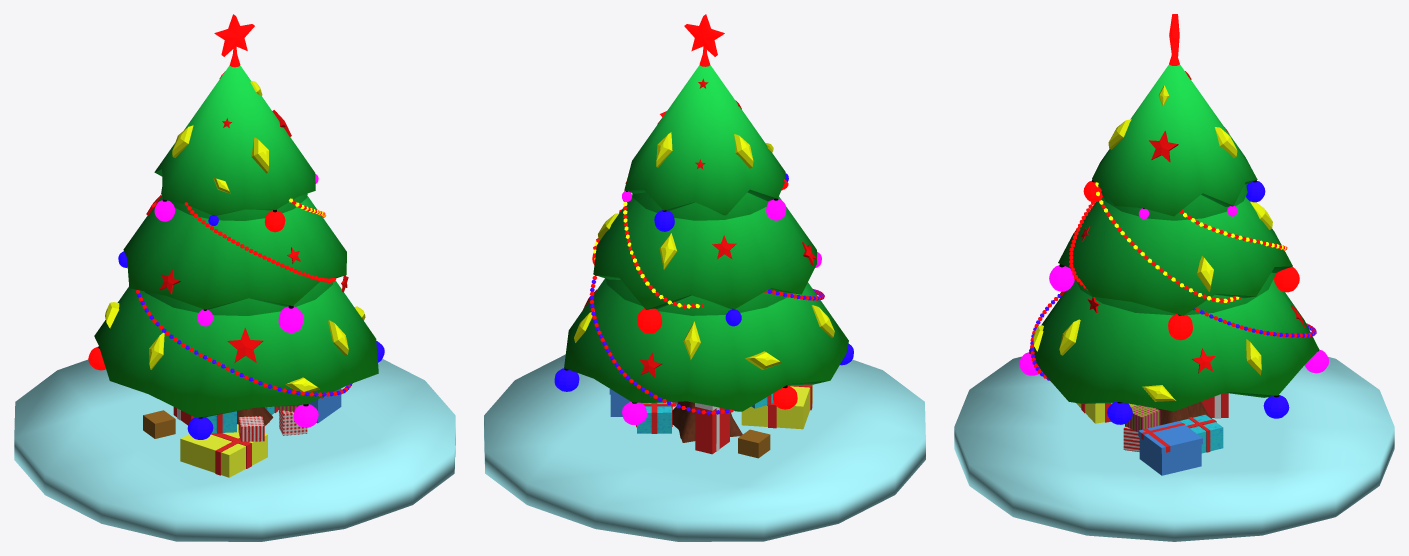
Rendered from Christmas_tree.fbx.
3 views of the same model, side by side, from view 1: azimuth 30°, elevation 25°; view 2: azimuth 150°, elevation 25°; view 3: azimuth 270°, elevation 25° (orthographic).
Parts seen in each view (by area): view 1: Christmas_tree, Paul, Box.003, Spire.004, Box.004, Garland.001, Box.005, Sphere, Garland.003, Garland.002, Box.006, Star.003; view 2: Christmas_tree, Paul, Box.003, Box.002, Stump, Box, Spire.004, Box.004, Sphere.003; view 3: Christmas_tree, Paul, Box.006, Box, Box.008, Stump, Sphere, Box.002, Sphere.002.
Boxes of the visible parts, left/top/right/bottom form: Christmas_tree: left=94, top=65, right=378, bottom=417; Paul: left=14, top=359, right=455, bottom=541; Box.003: left=180, top=424, right=267, bottom=477; Spire.004: left=214, top=14, right=254, bottom=56; Box.004: left=143, top=410, right=175, bottom=438; Garland.001: left=184, top=202, right=336, bottom=282; Box.005: left=238, top=416, right=264, bottom=441; Sphere: left=278, top=305, right=303, bottom=332; Garland.003: left=136, top=290, right=352, bottom=396; Garland.002: left=136, top=289, right=351, bottom=396; Box.006: left=279, top=388, right=341, bottom=423; Star.003: left=227, top=327, right=262, bottom=362; Christmas_tree: left=564, top=65, right=848, bottom=411; Paul: left=484, top=354, right=925, bottom=541; Box.003: left=741, top=384, right=812, bottom=429; Box.002: left=695, top=403, right=729, bottom=454; Stump: left=672, top=401, right=742, bottom=442; Box: left=636, top=402, right=672, bottom=433; Spire.004: left=684, top=14, right=724, bottom=56; Box.004: left=738, top=429, right=770, bottom=458; Sphere.003: left=637, top=308, right=662, bottom=333; Christmas_tree: left=1029, top=64, right=1319, bottom=411; Paul: left=954, top=356, right=1394, bottom=541; Box.006: left=1138, top=421, right=1202, bottom=475; Box: left=1180, top=414, right=1223, bottom=453; Box.008: left=1125, top=405, right=1160, bottom=431; Stump: left=1156, top=401, right=1212, bottom=425; Sphere: left=1049, top=264, right=1074, bottom=291; Box.002: left=1201, top=393, right=1228, bottom=418; Sphere.002: left=1168, top=314, right=1192, bottom=340.
Bounding box in the file's own units: 366 × 399 × 366.
Materials: 22 (5 with a texture image).
